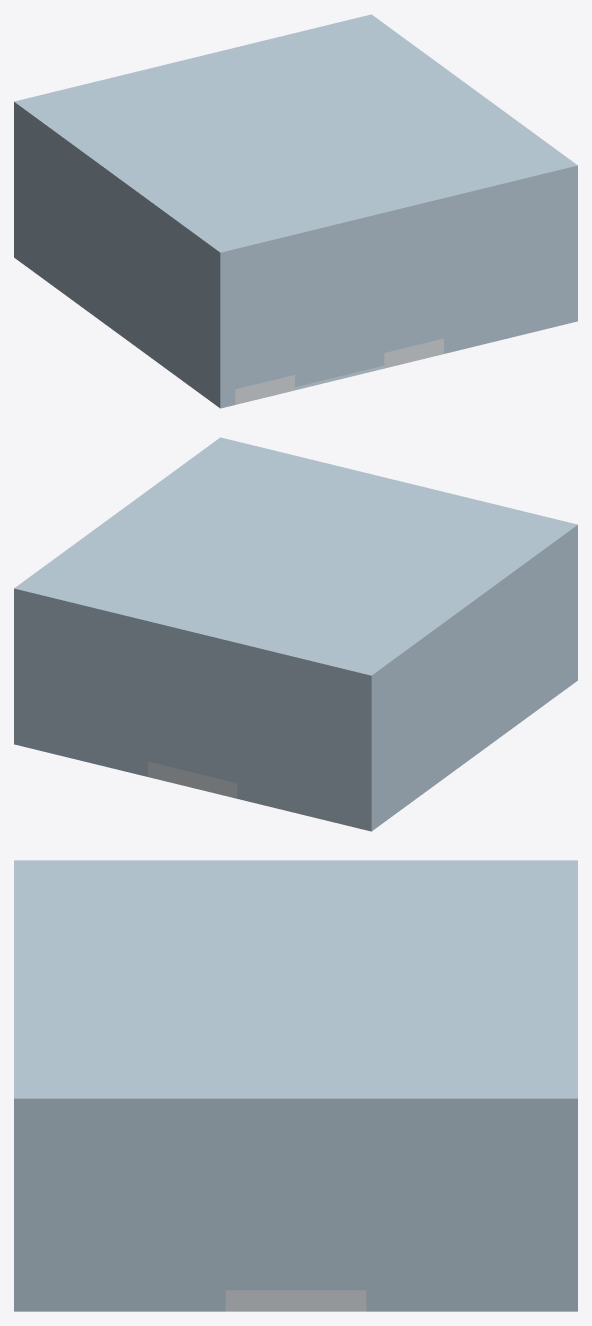
The model's file is frozen-spring-mirror.glb.
3 renders of one model, top to bottom at view 1: azimuth 30°, elevation 25°; view 2: azimuth 150°, elevation 25°; view 3: azimuth 270°, elevation 25°, orthographic. The views are drawn at different scales.
Parts seen in each view (by area): view 1: ice-rock_19, ice-rock_5, plug_frozen_south, ice-rock_11, ice-rock_10, ice-rock_9, ice-rock_12, ice-rock_18, ice-rock_3, ice-rock_8, ice-rock_1, plug_frozen_south.001; view 2: ice-rock_19, ice-rock_5, ice-rock_1, ice-rock_2, plug_ice_north, ice-rock_13, ice-rock_3, snow_1; view 3: ice-rock_19, ice-rock_8, plug_ice_east, ice-rock_7, ice-rock_4, ice-rock_6, ice-rock_14, ice-rock_2, snow_10.
Boxes of the visible parts, bbox=[...] form: ice-rock_19: bbox=[14, 14, 577, 268]; ice-rock_5: bbox=[39, 136, 235, 408]; plug_frozen_south: bbox=[235, 229, 443, 389]; ice-rock_11: bbox=[473, 199, 503, 346]; ice-rock_10: bbox=[503, 192, 533, 339]; ice-rock_9: bbox=[533, 185, 562, 332]; ice-rock_12: bbox=[444, 206, 473, 353]; ice-rock_18: bbox=[235, 214, 443, 279]; ice-rock_3: bbox=[22, 124, 39, 275]; ice-rock_8: bbox=[563, 181, 577, 324]; ice-rock_1: bbox=[14, 117, 22, 263]; plug_frozen_south.001: bbox=[295, 353, 384, 387]; ice-rock_19: bbox=[14, 437, 577, 691]; ice-rock_5: bbox=[397, 540, 577, 812]; ice-rock_1: bbox=[237, 658, 379, 831]; ice-rock_2: bbox=[14, 604, 147, 776]; plug_ice_north: bbox=[148, 668, 237, 782]; ice-rock_13: bbox=[148, 637, 237, 689]; ice-rock_3: bbox=[380, 673, 397, 824]; snow_1: bbox=[148, 761, 237, 798]; ice-rock_19: bbox=[14, 860, 577, 1119]; ice-rock_8: bbox=[14, 1120, 225, 1311]; plug_ice_east: bbox=[225, 1162, 366, 1290]; ice-rock_7: bbox=[366, 1120, 460, 1311]; ice-rock_4: bbox=[507, 1120, 554, 1311]; ice-rock_6: bbox=[460, 1120, 507, 1311]; ice-rock_14: bbox=[225, 1120, 366, 1162]; ice-rock_2: bbox=[554, 1120, 577, 1311]; snow_10: bbox=[225, 1290, 366, 1311].
Bounding box in the file's own units: 12 × 5 × 12.
